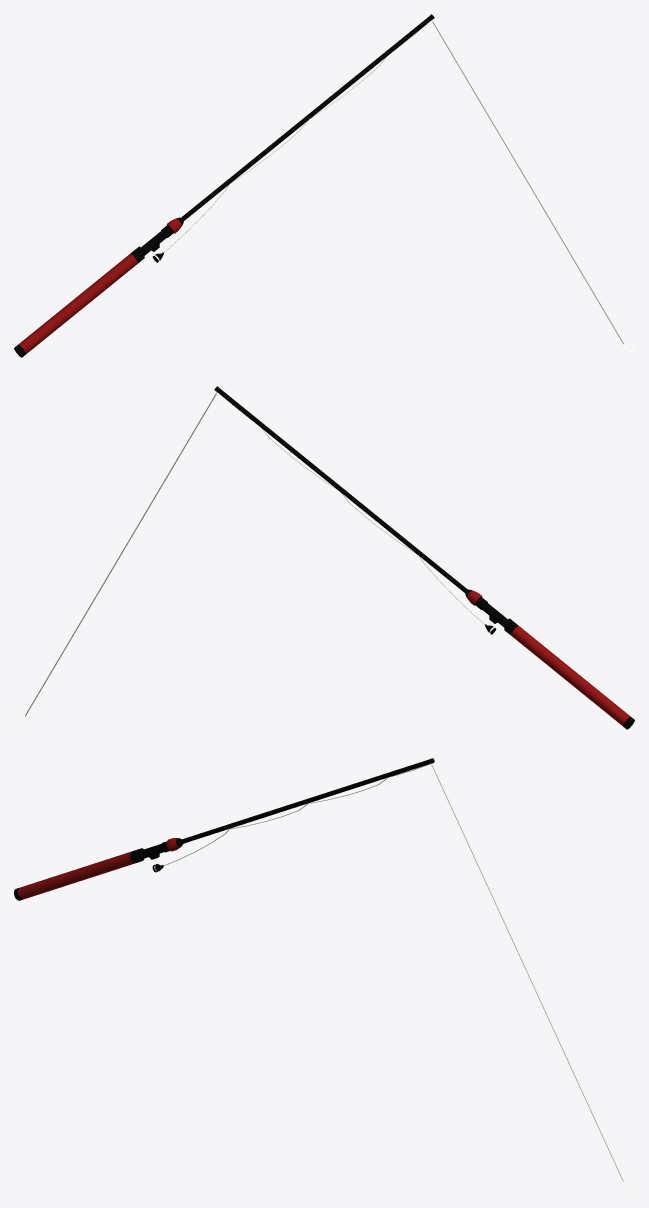
File: fishing_rod.glb
The picture shows the model from 3 angles, top to bottom: view 1: azimuth 30°, elevation 25°; view 2: azimuth 150°, elevation 25°; view 3: azimuth 330°, elevation 25°; orthographic projection.
Visible parts, largest first — view 1: Cylinder002, Cylinder006, Cylinder010; view 2: Cylinder002, Cylinder006, Cylinder010; view 3: Cylinder002, Cylinder006, Cylinder010.
Part boxes in pixels (x1,y1,x2,y2): Cylinder002: [18, 253, 137, 353]; Cylinder006: [177, 14, 434, 225]; Cylinder010: [432, 20, 624, 344]; Cylinder002: [511, 625, 630, 725]; Cylinder006: [214, 386, 471, 596]; Cylinder010: [25, 392, 217, 716]; Cylinder002: [18, 852, 134, 899]; Cylinder006: [176, 758, 434, 846]; Cylinder010: [431, 763, 623, 1181].
Size of the model in its own units: 343 by 204 by 5.98.
Materials: 4 (1 with a texture image).
